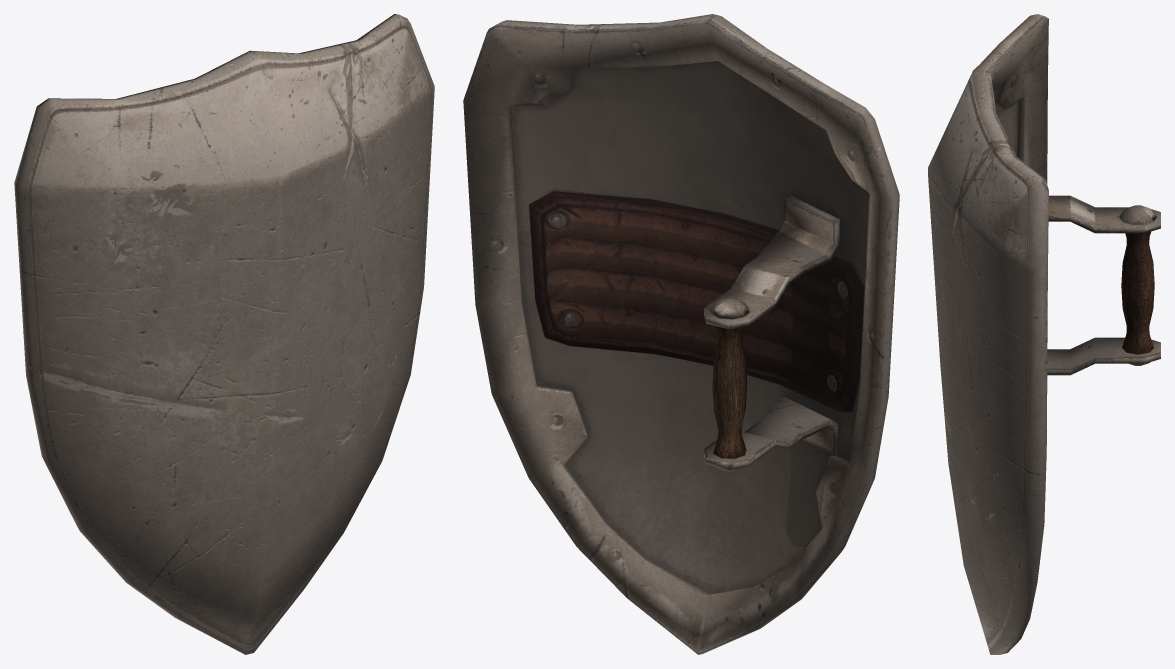
Rendered from Warrior_Lv2_Shield.fbx.
The picture shows the model from 3 angles, left to right: view 1: azimuth 30°, elevation 25°; view 2: azimuth 150°, elevation 25°; view 3: azimuth 270°, elevation 25°; orthographic projection. The views are drawn at different scales.
Visible parts, largest first — view 1: Shield_004; view 2: Shield_004; view 3: Shield_004.
Boxes of the visible parts, x1=… form: Shield_004: x1=14, y1=14, x2=434, y2=654; Shield_004: x1=463, y1=14, x2=899, y2=654; Shield_004: x1=928, y1=14, x2=1160, y2=654.
Size of the model in its own units: 36.58 by 51.16 by 18.47.
